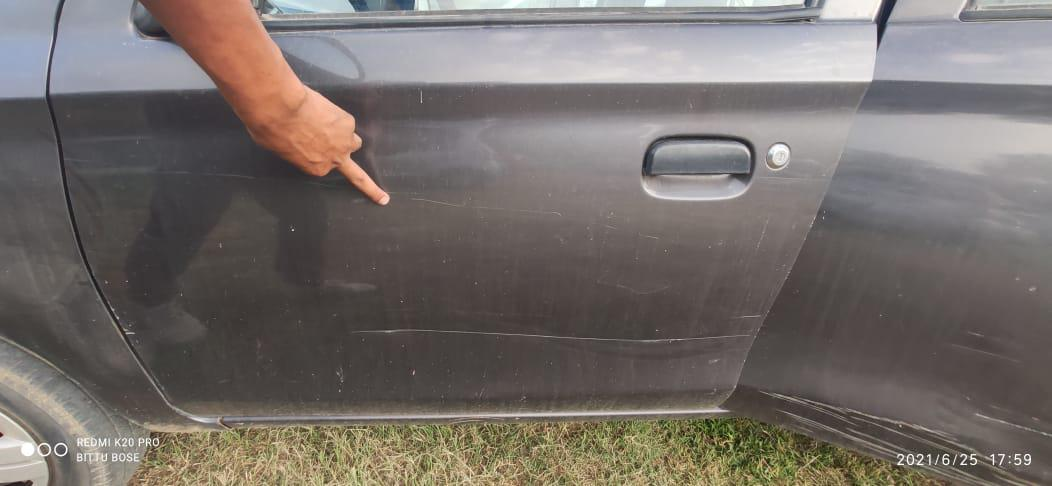doorouter-dent: (128, 36, 765, 420)
